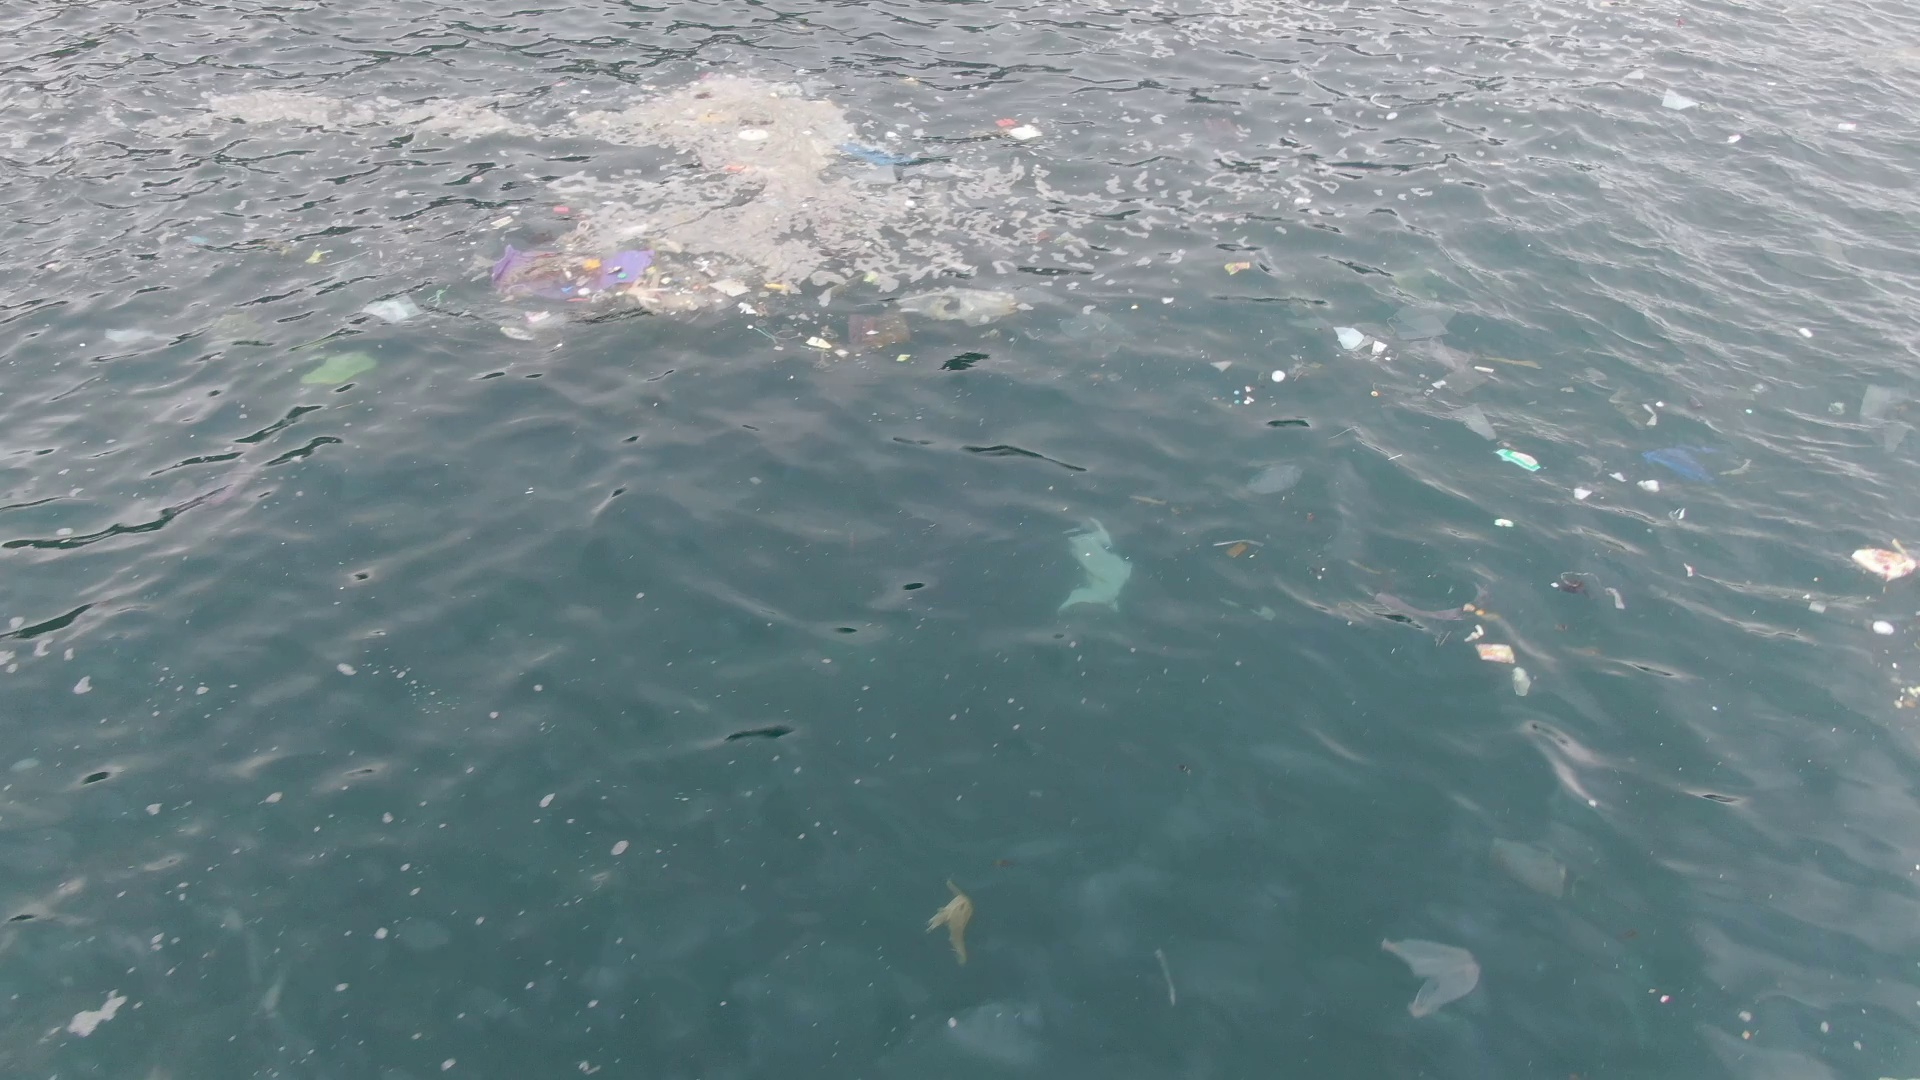garbage: (484, 199, 787, 322), (1396, 273, 1497, 440), (1341, 589, 1491, 642), (1059, 517, 1131, 615), (895, 285, 1062, 327), (1393, 938, 1480, 1018), (807, 311, 913, 357), (1643, 442, 1753, 485), (841, 138, 952, 181), (934, 880, 971, 965), (1851, 541, 1916, 585), (1551, 572, 1627, 608), (298, 352, 378, 384), (816, 268, 880, 306), (367, 293, 423, 323), (1335, 324, 1390, 355), (1495, 446, 1543, 475), (997, 116, 1042, 142), (1476, 640, 1516, 666), (1213, 538, 1263, 559), (1663, 88, 1700, 109), (1233, 382, 1255, 406), (723, 162, 756, 175), (738, 128, 770, 141), (1224, 261, 1250, 276), (698, 111, 729, 123), (1575, 487, 1594, 502), (1494, 516, 1515, 529), (305, 251, 322, 264), (1671, 508, 1689, 520), (901, 76, 920, 87), (1799, 327, 1813, 339), (1838, 123, 1857, 132), (1271, 371, 1286, 381), (551, 79, 568, 87), (1727, 135, 1743, 142), (897, 353, 910, 361), (582, 87, 591, 95)
